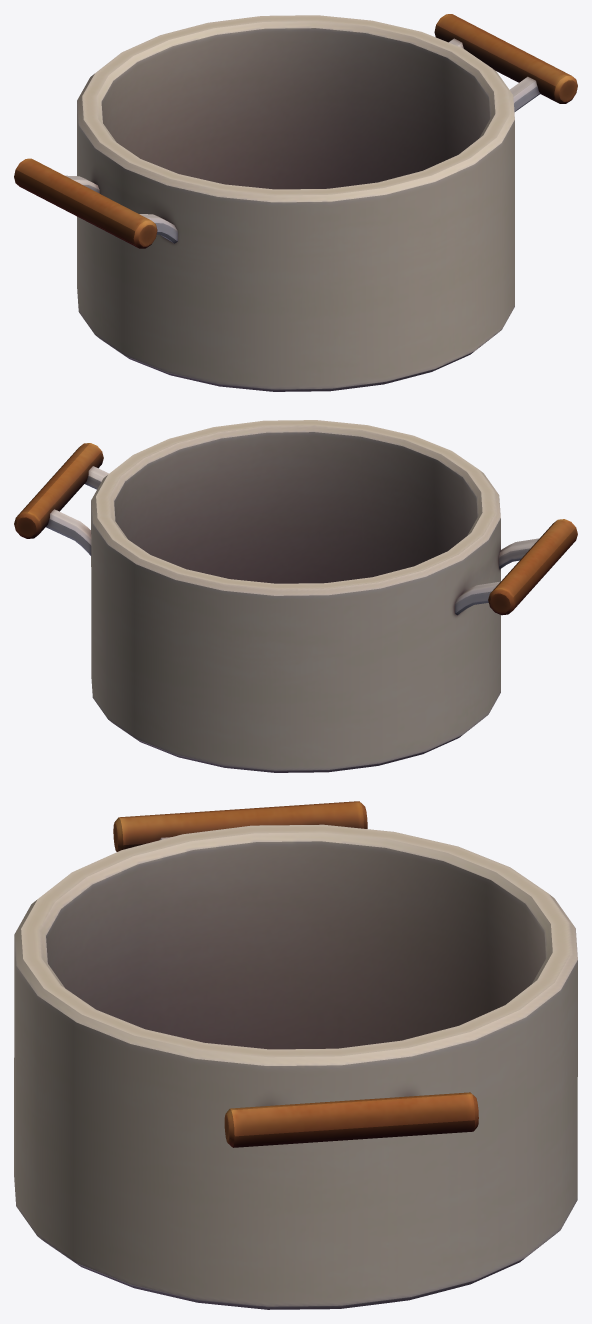
The model's file is Pot.fbx.
The picture shows the model from 3 angles, top to bottom: view 1: azimuth 30°, elevation 25°; view 2: azimuth 150°, elevation 25°; view 3: azimuth 270°, elevation 25°; orthographic projection. The views are drawn at different scales.
Visible parts, largest first — view 1: Pot; view 2: Pot; view 3: Pot.
Part boxes in pixels (x1,y1,x2,y2): Pot: [14, 14, 577, 391]; Pot: [14, 420, 577, 772]; Pot: [14, 801, 577, 1309].
Bounding box in the file's own units: 172 × 62.52 × 126.
